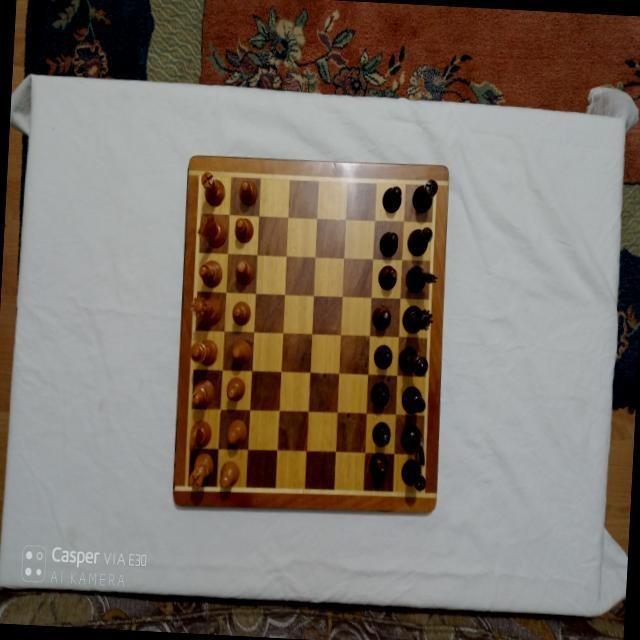black-bishop: (406, 224, 434, 257), (401, 384, 427, 415)
black-king: (398, 346, 430, 378)
black-knight: (400, 425, 428, 467), (406, 265, 438, 295)
black-pawn: (369, 451, 390, 480), (378, 230, 399, 257), (371, 304, 392, 331), (372, 343, 393, 370), (369, 381, 390, 408), (371, 420, 392, 447), (382, 185, 402, 213), (377, 265, 398, 291)
black-queen: (401, 303, 434, 335)
black-rook: (412, 178, 440, 214), (400, 459, 427, 491)
white-bishop: (197, 259, 222, 289), (192, 380, 214, 408)
white-king: (190, 337, 218, 366)
white-knight: (196, 214, 228, 250), (188, 419, 212, 452)
white-pawn: (227, 418, 248, 446), (219, 461, 240, 489), (237, 178, 258, 205), (233, 216, 254, 243), (233, 259, 254, 285), (225, 376, 246, 402), (232, 338, 252, 365), (232, 301, 252, 326)
white-queen: (189, 294, 223, 326)
white-rook: (189, 452, 215, 491), (200, 171, 226, 207)
